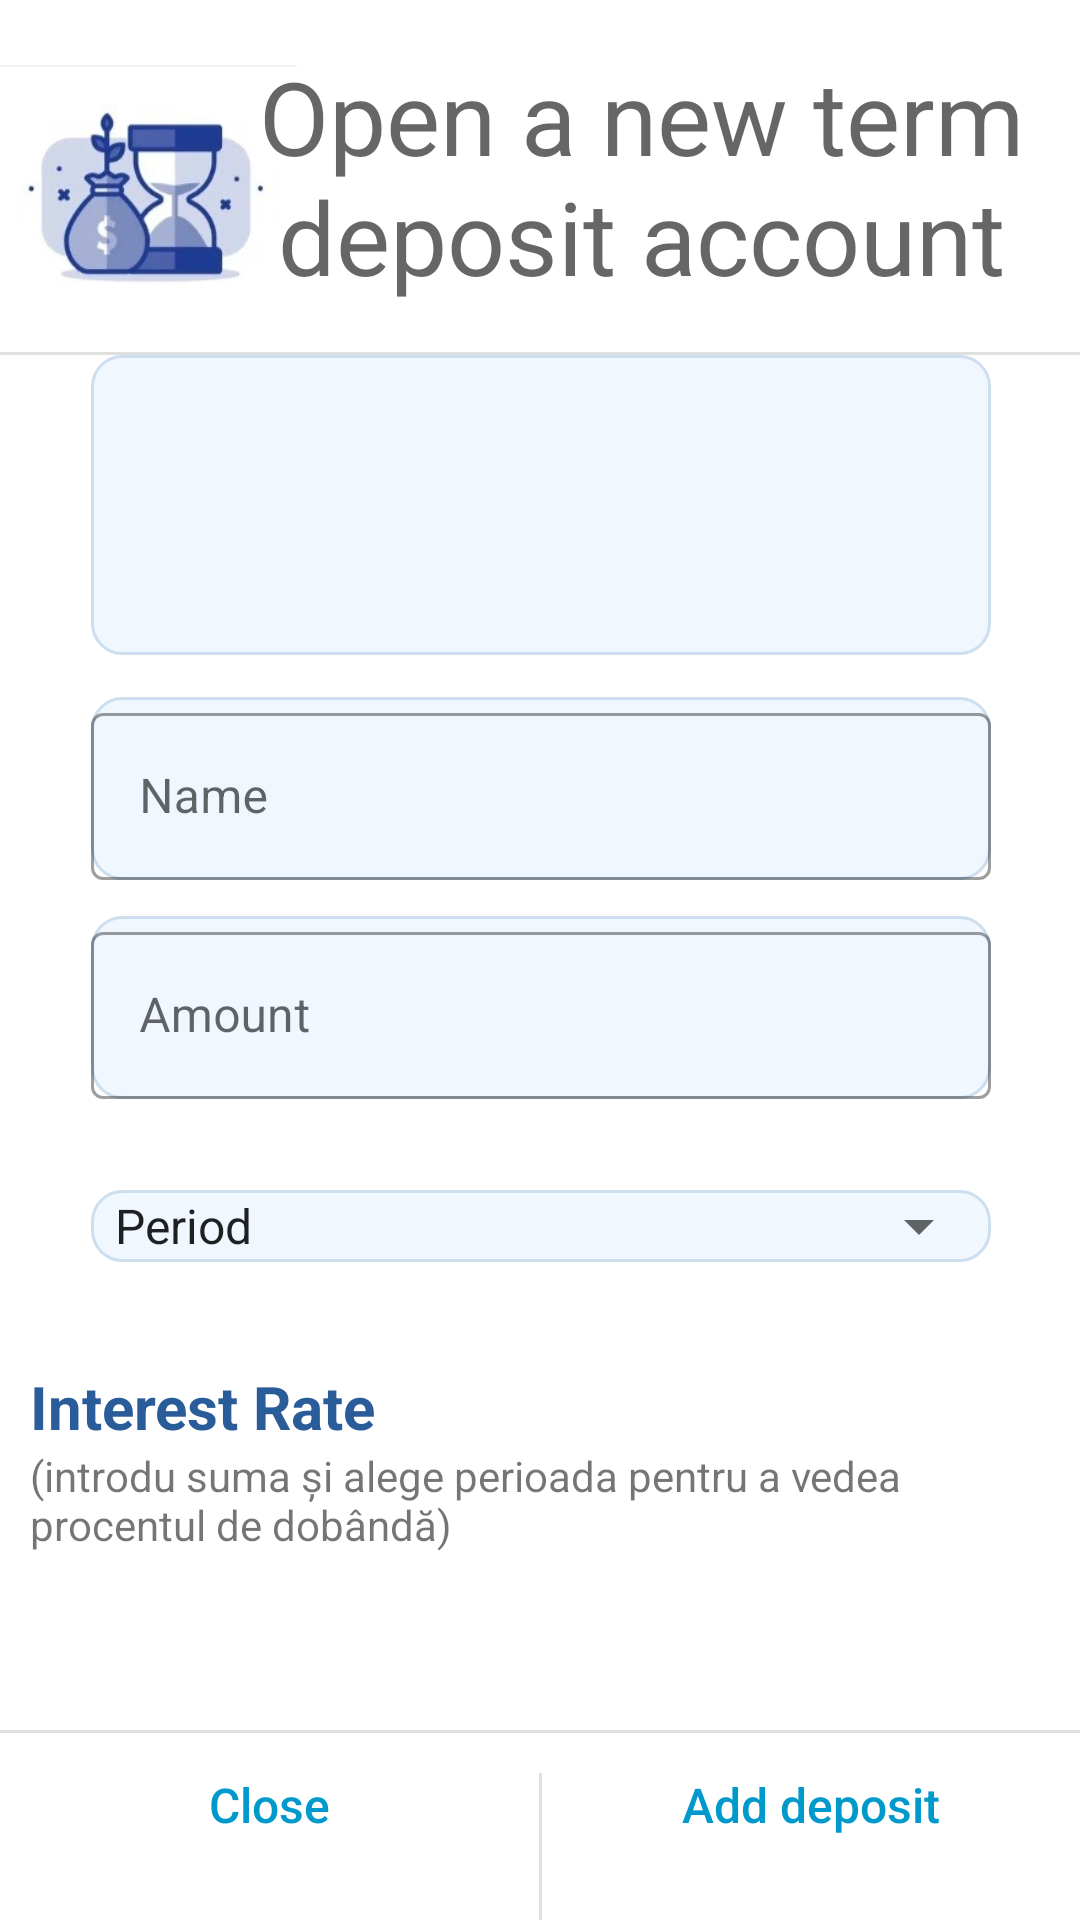

Screen size 1080*1920. Icon name, then its center in pixels as (x=x, y=y):
infodepositicon: (x=145, y=196)
